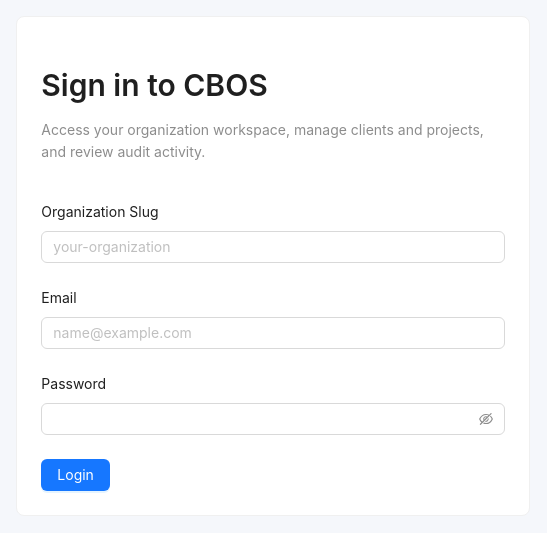
Scenario: LoginPage › shows validation error when submitting empty form
Click the button "Login". click: click(76, 475)
box: [41,459,110,491]
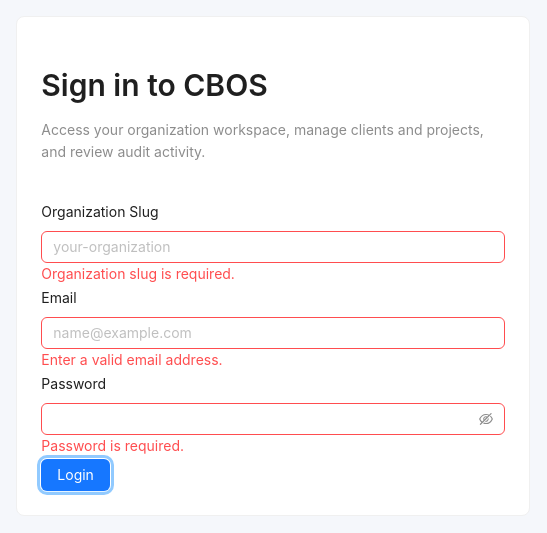
Expected: the text "Organization slug is required." is shown, [41,265,235,282]
